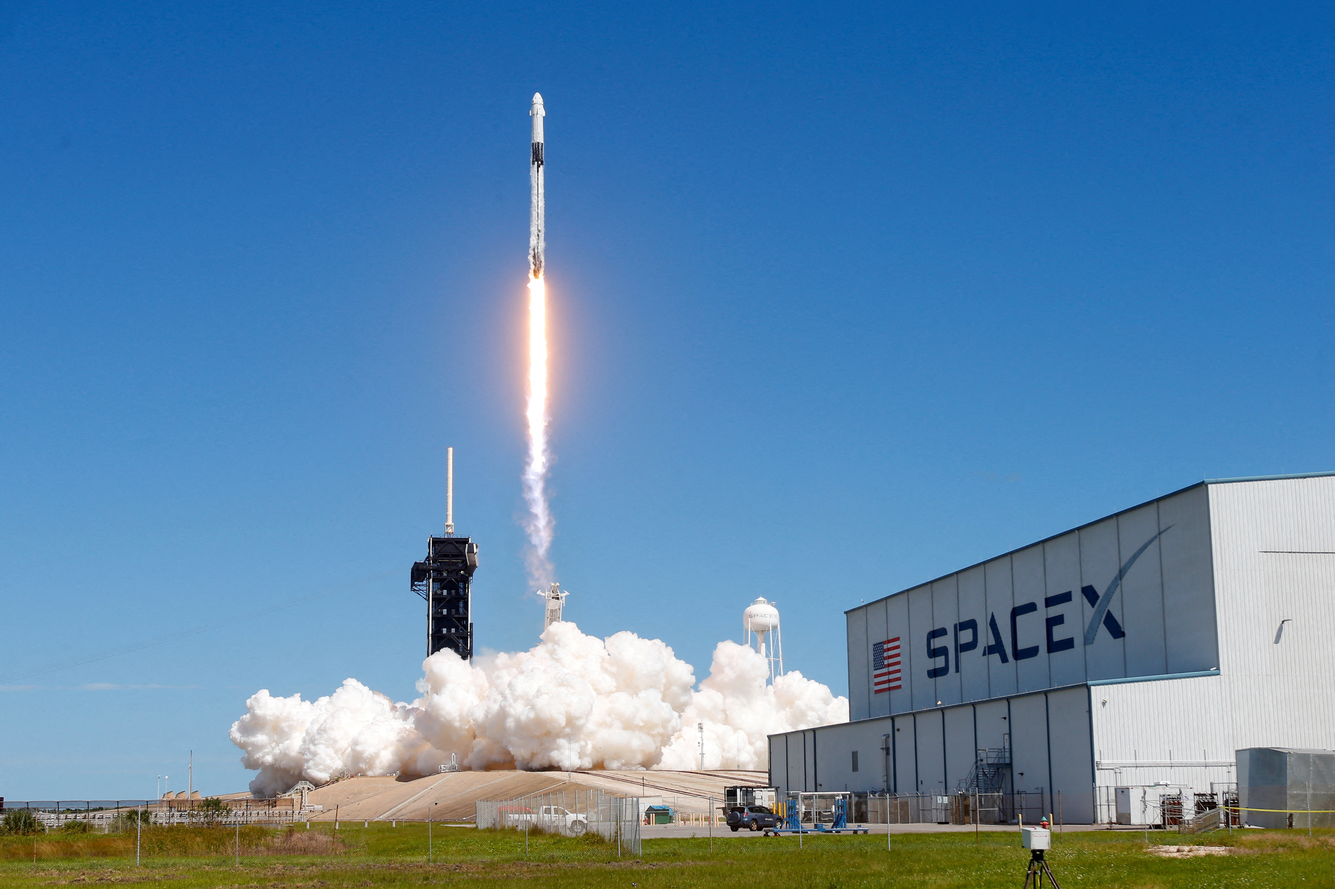falcon: (511, 81, 571, 277)
